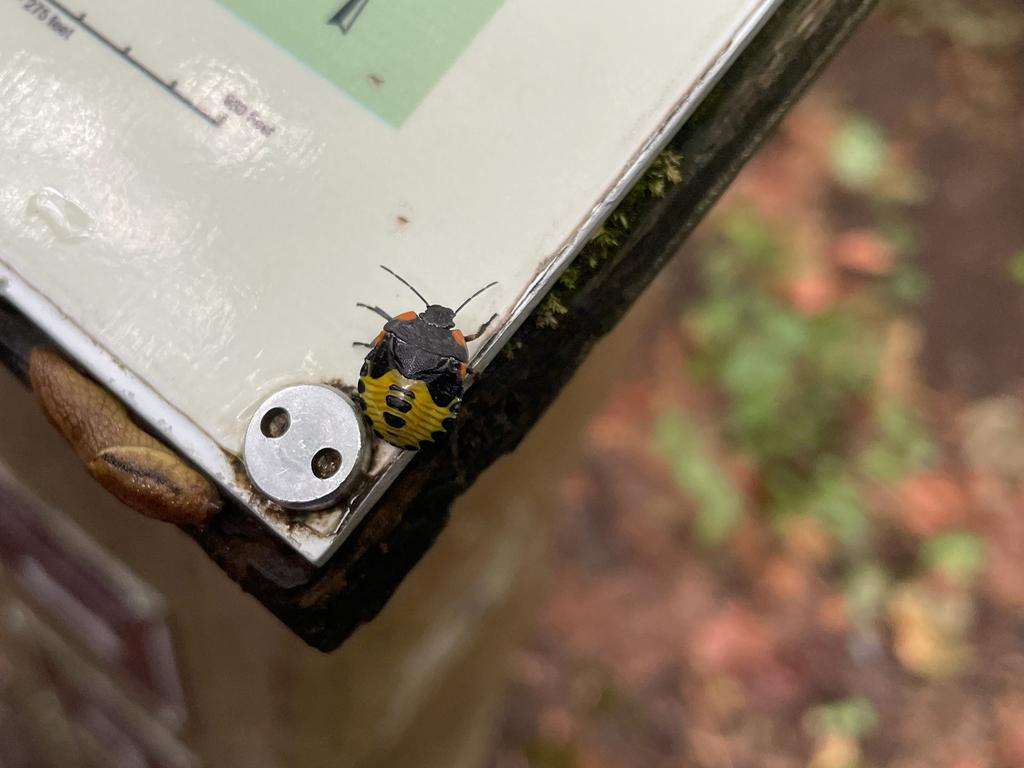stink_bugs: (311, 241, 538, 493)
